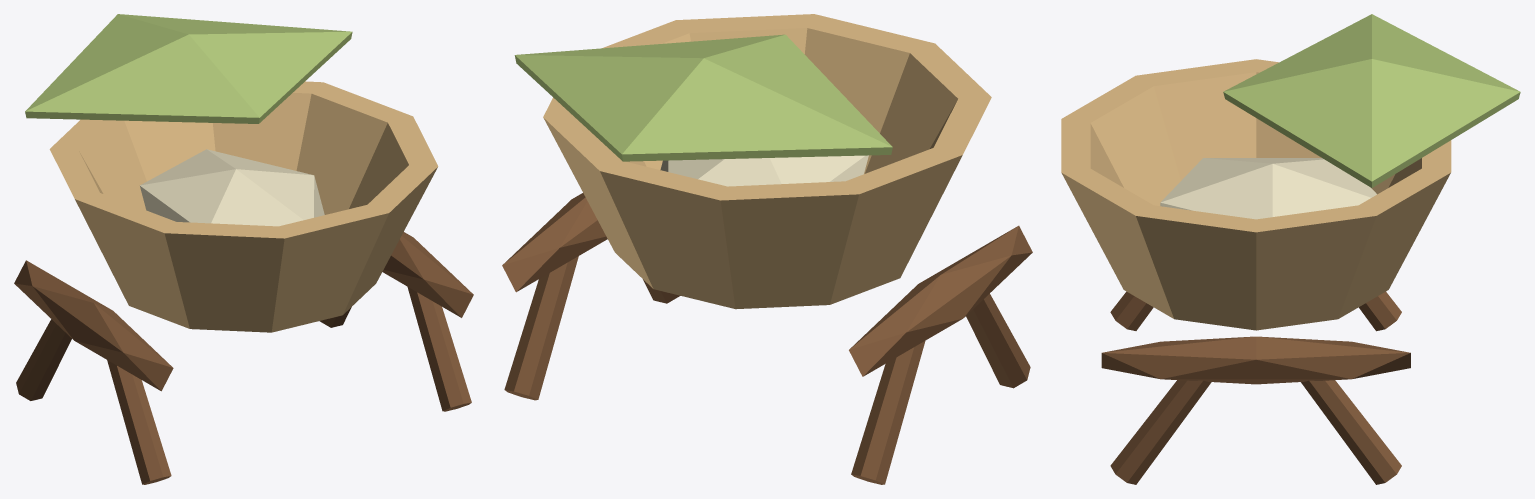
The model's file is CC_Nursery.fbx.
The picture shows the model from 3 angles, left to right: view 1: azimuth 30°, elevation 25°; view 2: azimuth 150°, elevation 25°; view 3: azimuth 270°, elevation 25°; orthographic projection. The views are drawn at different scales.
Visible parts, largest first — view 1: Cradle basket, Canopy leaf, Swaddle, Rocker, Cradle stand, Cradle stand.002, Rocker.001, Cradle stand.001; view 2: Cradle basket, Canopy leaf, Rocker, Swaddle, Cradle stand.001, Cradle stand.003, Rocker.001, Cradle stand; view 3: Cradle basket, Canopy leaf, Rocker.001, Swaddle, Cradle stand.002, Cradle stand.003, Cradle stand, Cradle stand.001.
Boxes of the visible parts, bbox=[...] form: Cradle basket: bbox=[49, 81, 438, 332]; Canopy leaf: bbox=[25, 14, 352, 123]; Swaddle: bbox=[140, 149, 324, 226]; Rocker: bbox=[14, 260, 173, 391]; Cradle stand: bbox=[107, 360, 171, 484]; Cradle stand.002: bbox=[407, 286, 471, 411]; Rocker.001: bbox=[382, 232, 473, 317]; Cradle stand.001: bbox=[16, 319, 71, 400]; Cradle basket: bbox=[543, 14, 991, 309]; Canopy leaf: bbox=[514, 34, 892, 161]; Rocker: bbox=[849, 225, 1032, 376]; Swaddle: bbox=[660, 155, 868, 186]; Cradle stand.001: bbox=[851, 341, 925, 484]; Cradle stand.003: bbox=[504, 256, 578, 400]; Rocker.001: bbox=[502, 193, 607, 292]; Cradle stand: bbox=[966, 293, 1030, 388]; Cradle basket: bbox=[1061, 59, 1451, 330]; Canopy leaf: bbox=[1223, 14, 1520, 187]; Rocker.001: bbox=[1101, 336, 1410, 384]; Swaddle: bbox=[1160, 158, 1376, 219]; Cradle stand.002: bbox=[1110, 380, 1211, 484]; Cradle stand.003: bbox=[1301, 380, 1401, 484]; Cradle stand: bbox=[1110, 291, 1153, 330]; Cradle stand.001: bbox=[1359, 291, 1401, 331].
Size of the model in its own units: 1.24 by 1.16 by 1.39.
